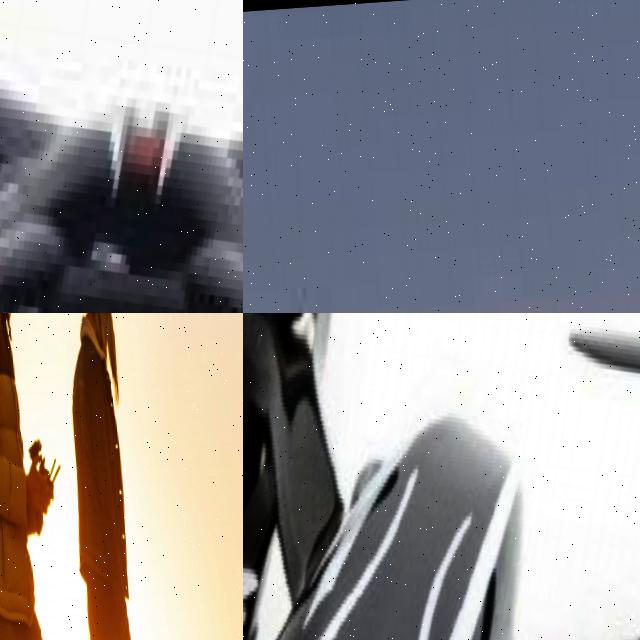drone: (243, 313, 640, 640), (0, 0, 243, 313)
